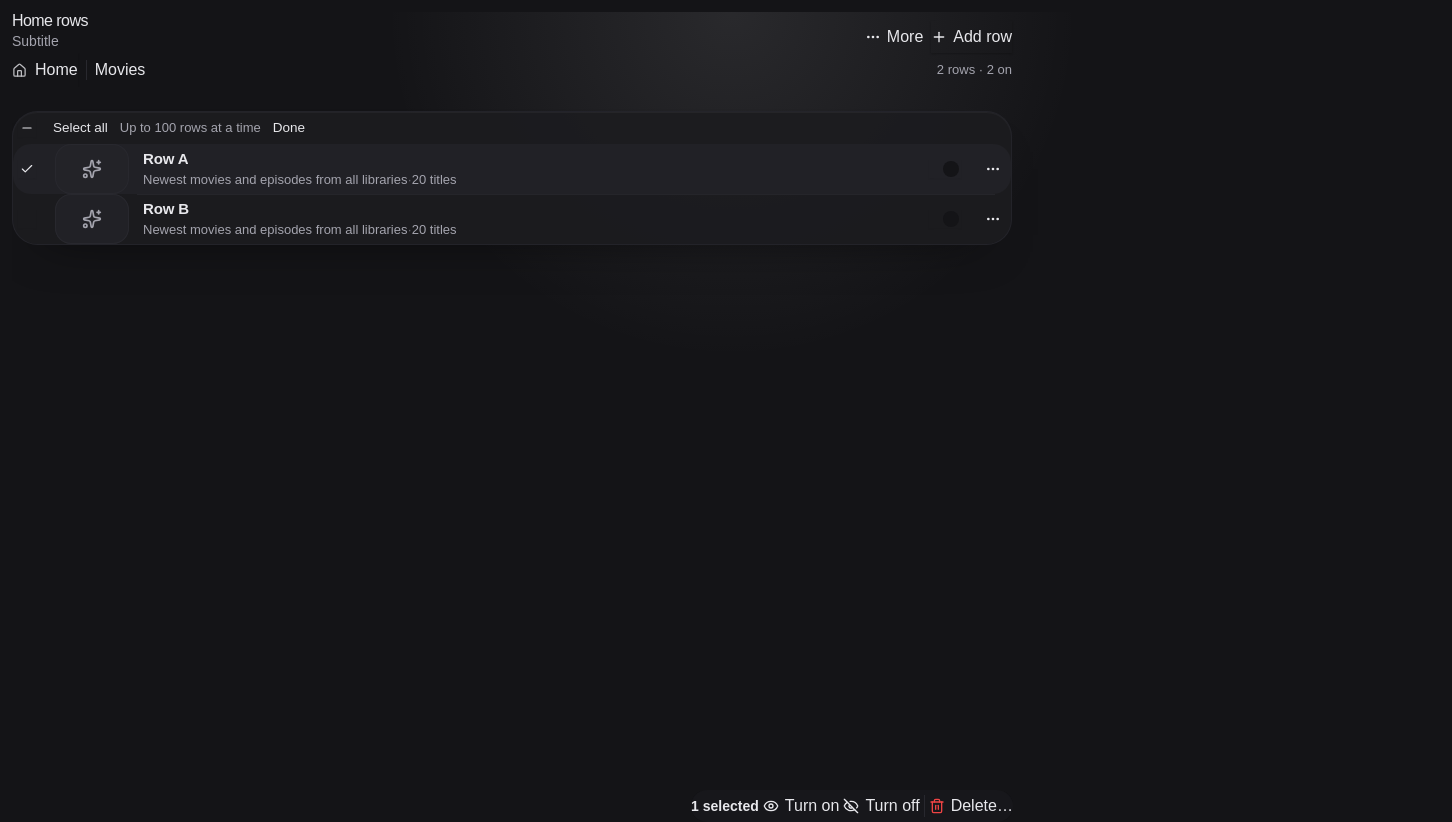
Test: HomeRowsPage › leaves select mode on Escape inside the list, not from an open row menu
This screenshot has width=1452, height=822.
Click the button named "More for Row B".
click(993, 219)  # box x1=975 y1=201 x2=1011 y2=237
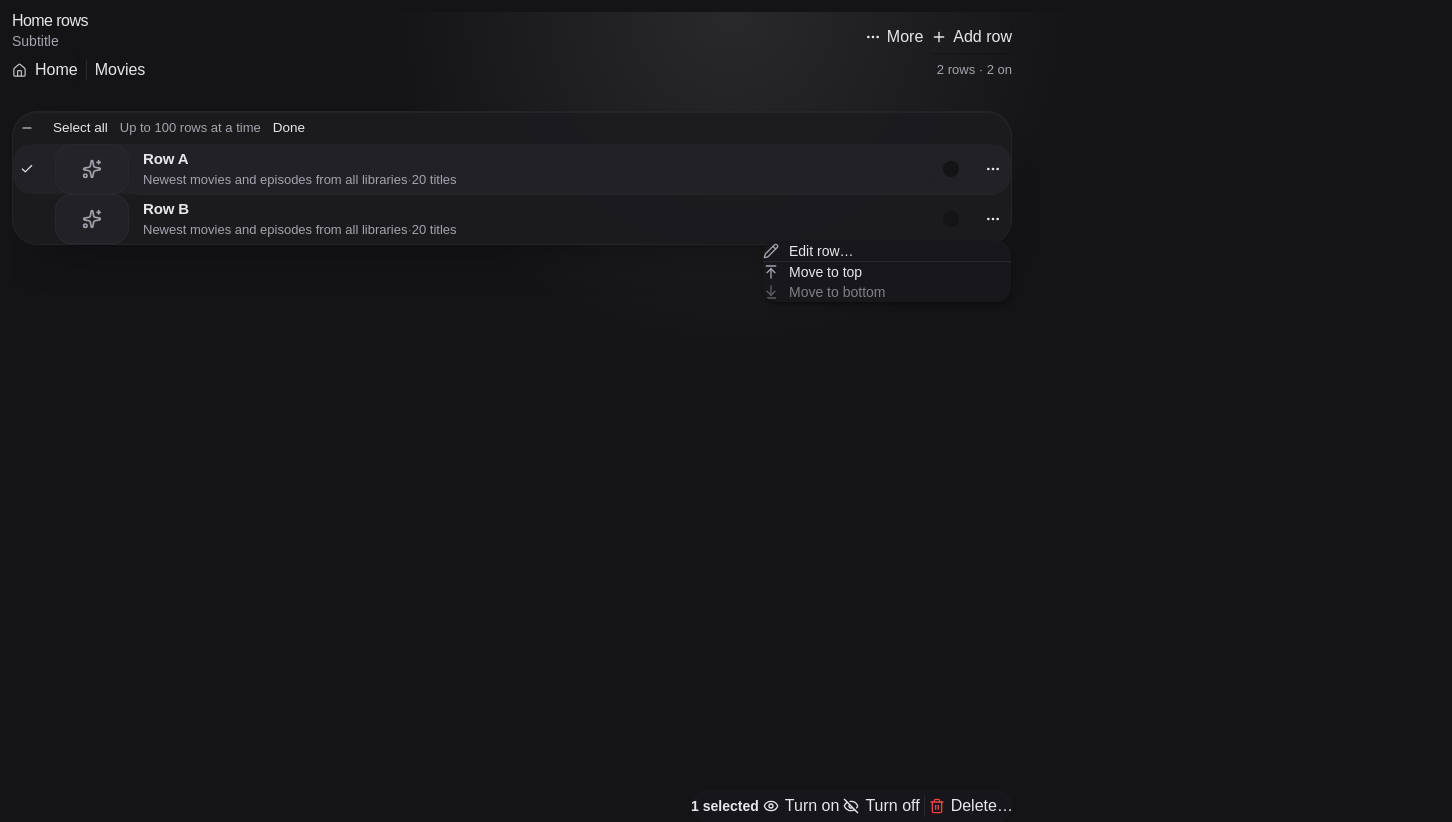
Press Escape
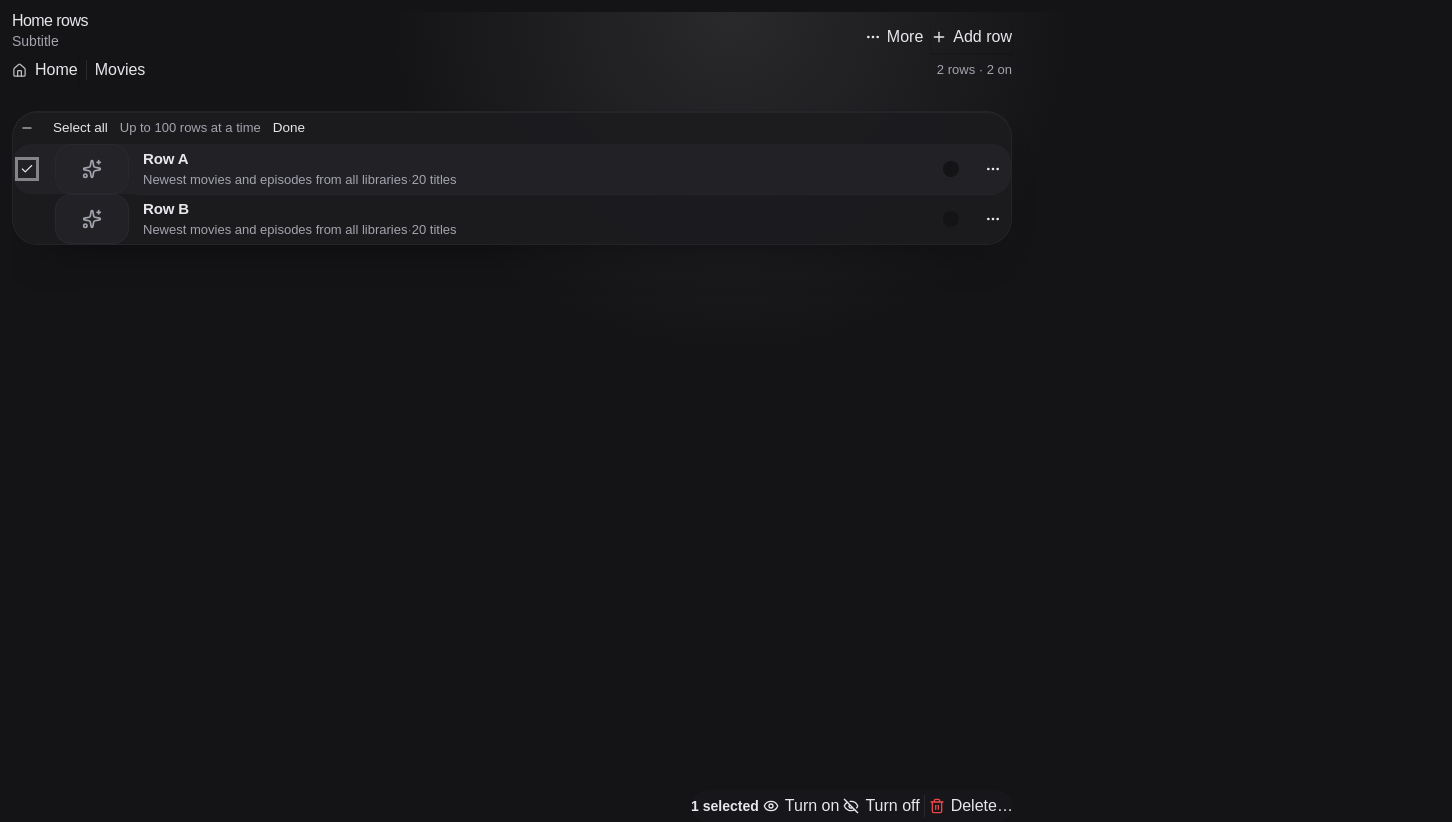
expect the checkbox named "Select Row A" is shown: met, box x1=18 y1=160 x2=36 y2=178
expect the menu is gone: met
Press Escape
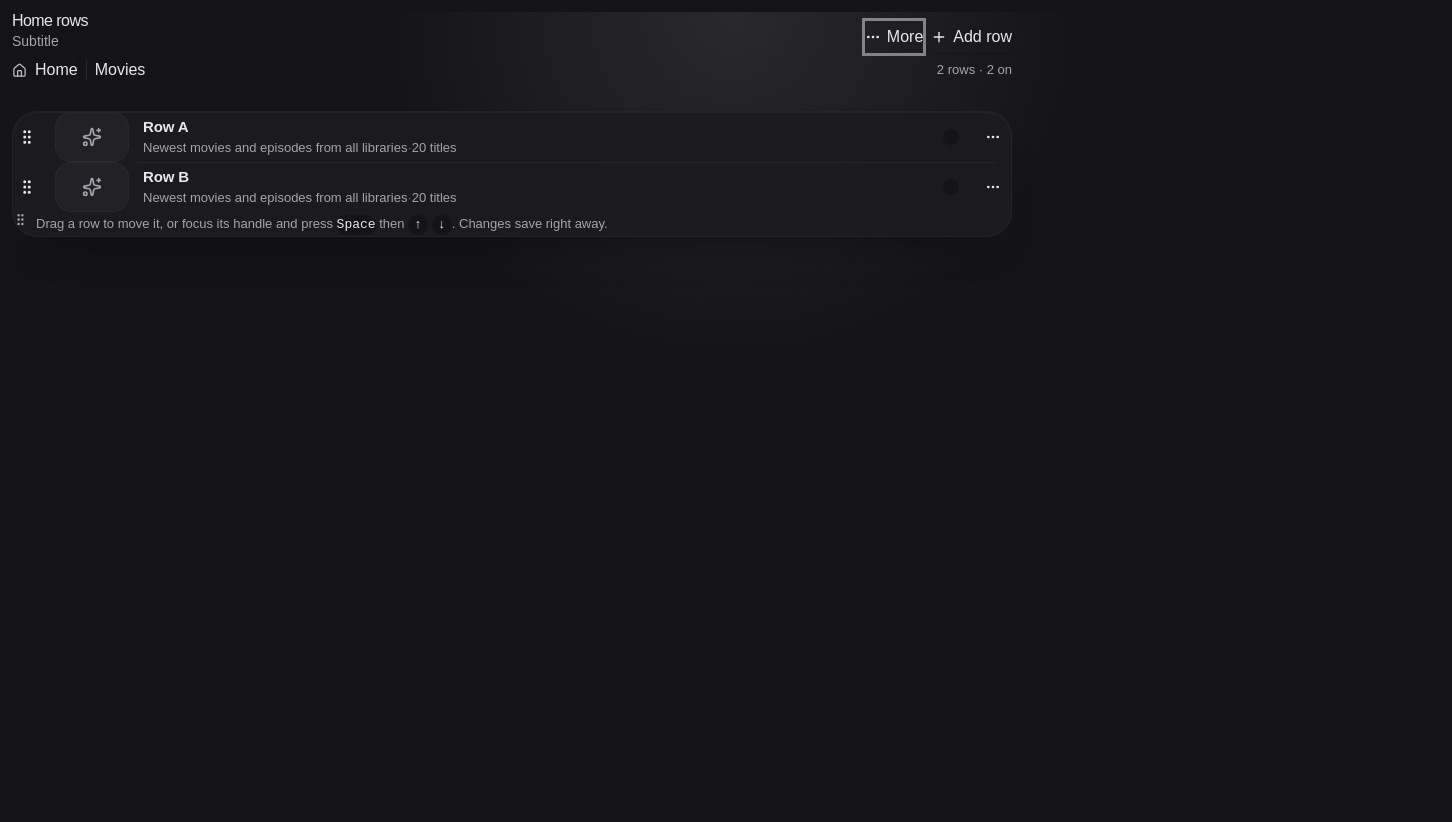
expect the button named "Move Row A" is shown: met, box x1=13 y1=119 x2=41 y2=155
